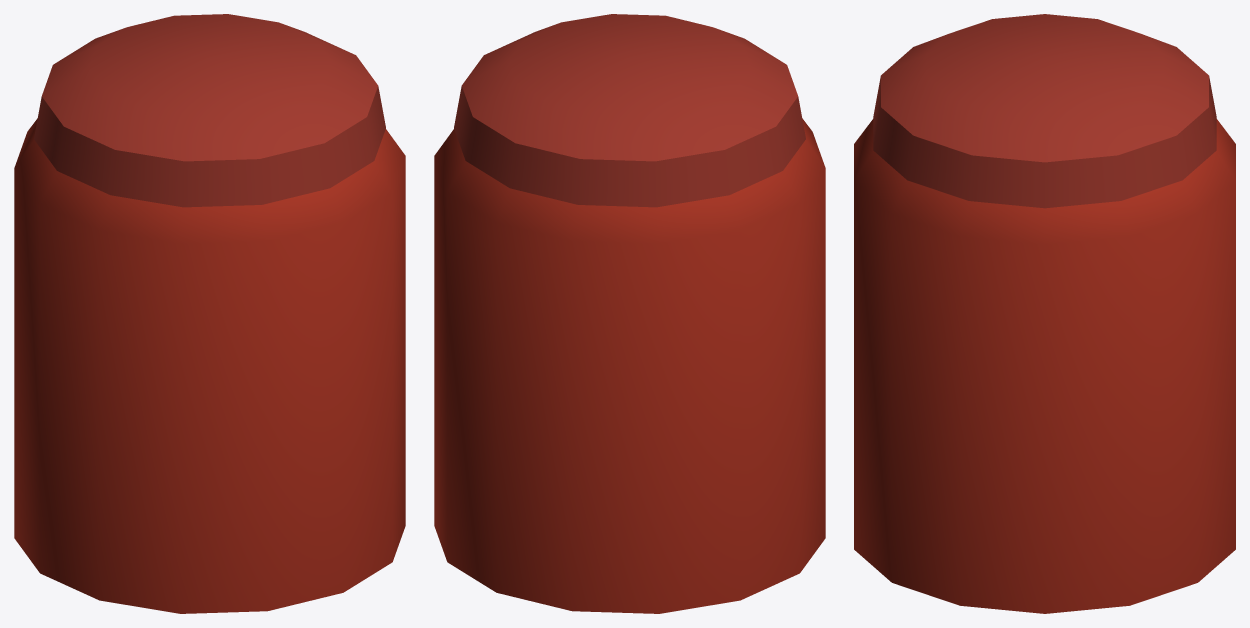
File: tpl_dispensa_vaso_s_pomodori.glb
The picture shows the model from 3 angles, left to right: view 1: azimuth 30°, elevation 25°; view 2: azimuth 150°, elevation 25°; view 3: azimuth 270°, elevation 25°; orthographic projection.
Parts seen in each view (by area): view 1: tpl_dispensa_vaso_s_pomodori; view 2: tpl_dispensa_vaso_s_pomodori; view 3: tpl_dispensa_vaso_s_pomodori.
Part boxes in pixels (left/top/right/bottom): tpl_dispensa_vaso_s_pomodori: left=14, top=14, right=405, bottom=613; tpl_dispensa_vaso_s_pomodori: left=434, top=14, right=825, bottom=613; tpl_dispensa_vaso_s_pomodori: left=854, top=14, right=1235, bottom=613.
Size of the model in its own units: 0.09 by 0.12 by 0.0877.
